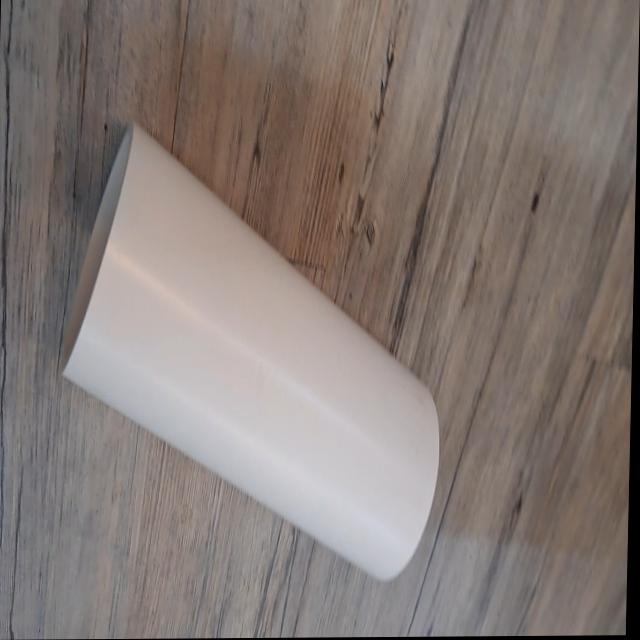CORAL: (43, 113, 467, 594)
